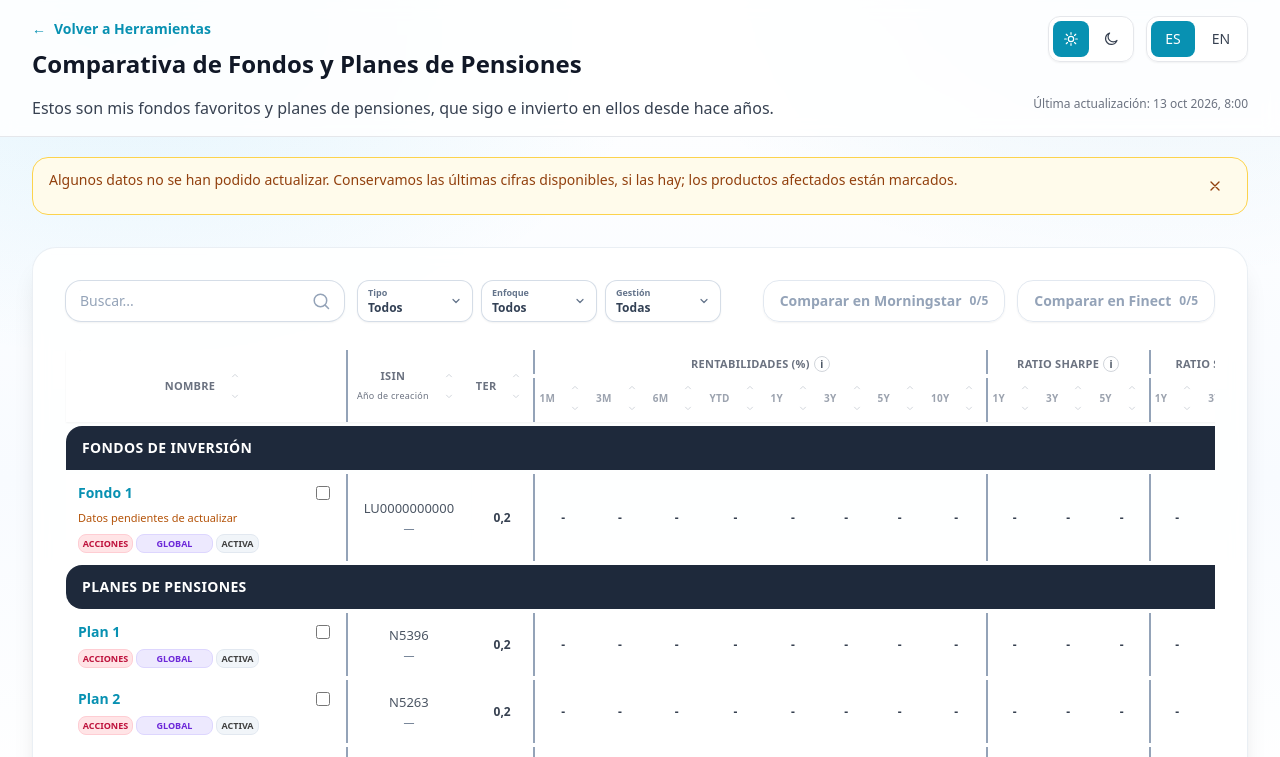
Test case: data loading and mobile controls › marks preserved older metrics and explains Sharpe
The image size is (1280, 757).
Expected: the text "Datos pendientes de actualizar" is shown, [78,508,237,528]
Expected: the text "Conservamos las últimas cifras disponibles" is shown, [49,170,957,189]
What coordinates should you click on to do the following:
click the button named "Ratio Sharpe"
I would click on:
 (1111, 364)
Its box is [1103,356,1119,372].
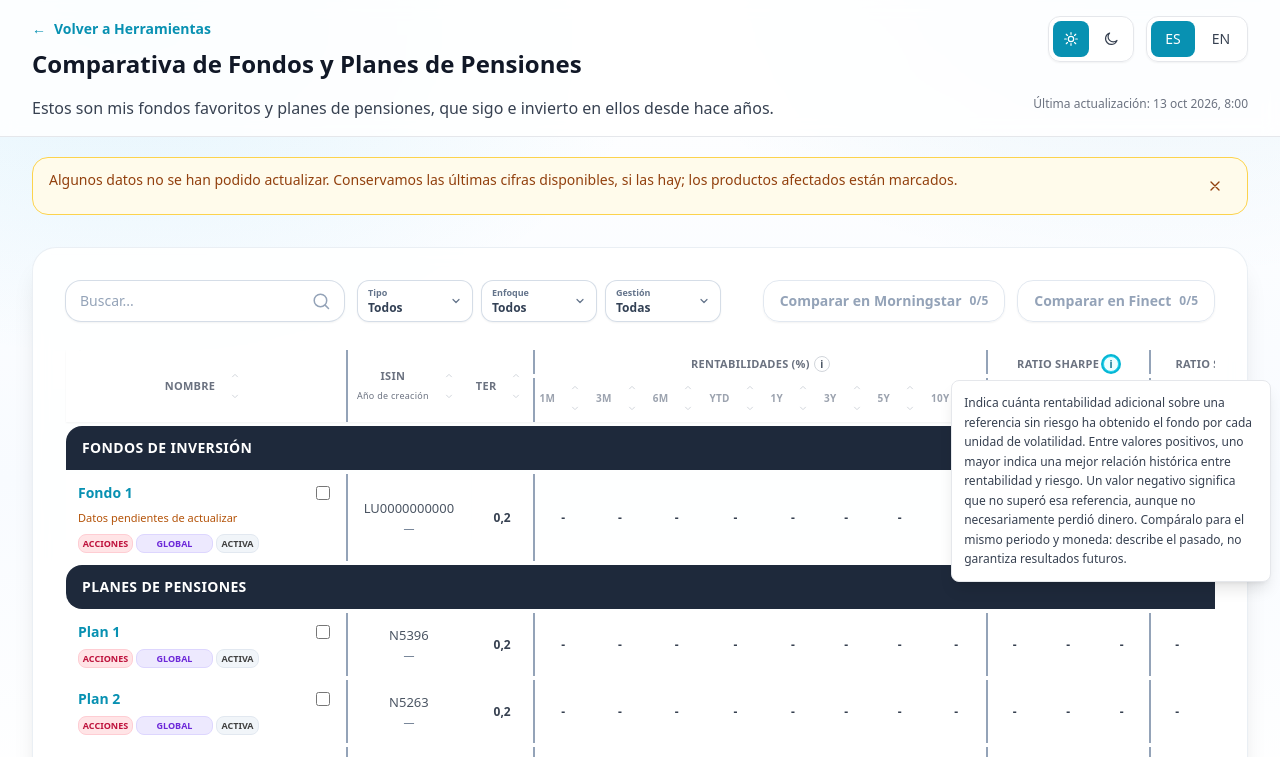
Expected: the tooltip "Indica cuánta rentabilidad adicional" shows "referencia sin riesgo", [964,394,1252,567]
What coordinates should you click on to do the following:
click the button named "Cerrar aviso"
I would click on:
 (1215, 186)
Its box is [1199,170,1231,202].
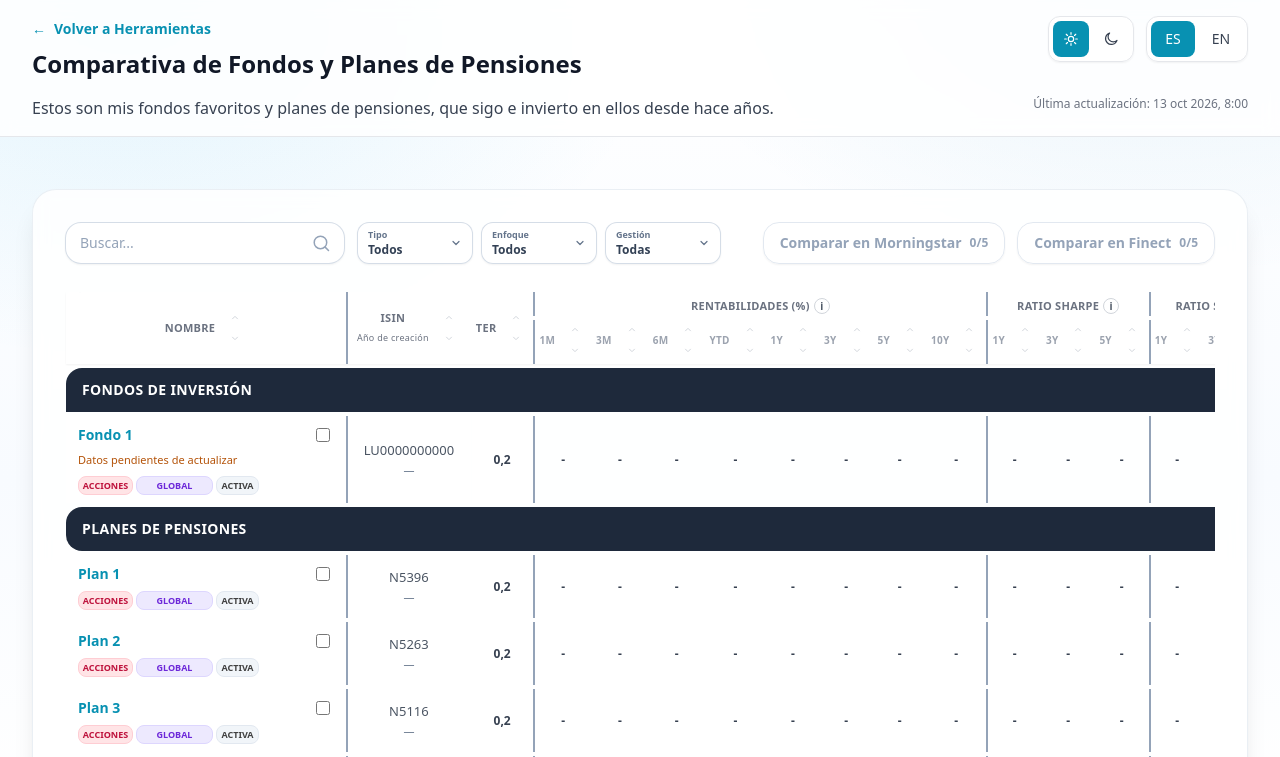
Expected: the text "Datos pendientes de actualizar" is shown, [78,450,237,470]
Expected: the text "Conservamos las últimas cifras disponibles" is gone
